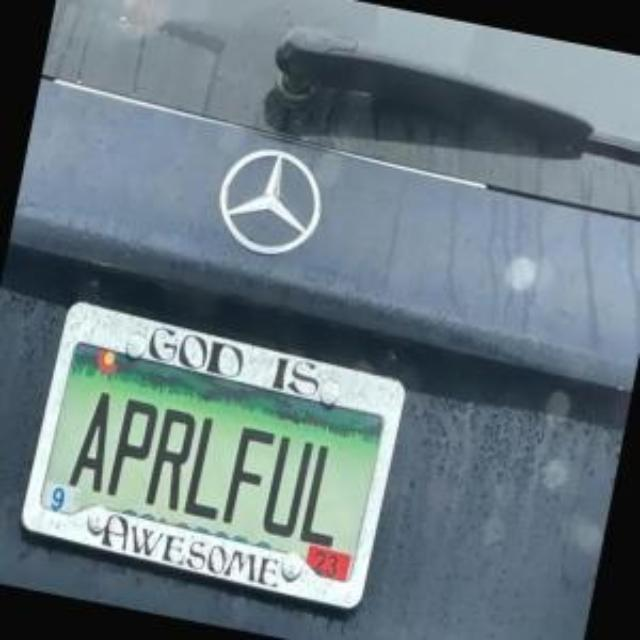License Plate: (15, 301, 408, 614)
